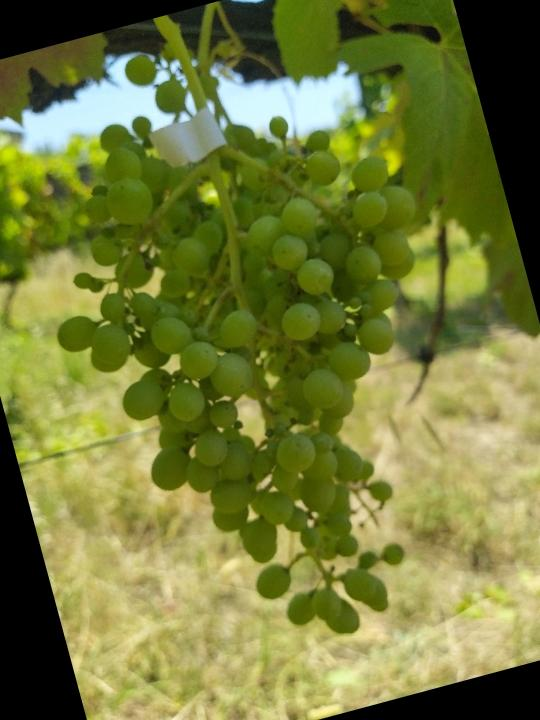grape: (3, 49, 520, 689)
